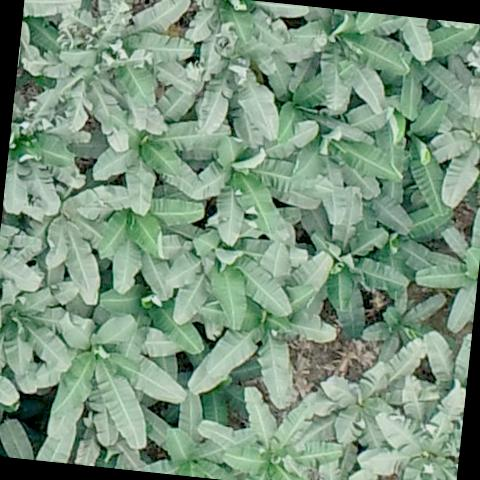Banana-plant: (190, 237, 346, 416), (86, 88, 236, 218), (191, 106, 319, 253), (44, 316, 181, 452), (288, 89, 406, 231), (162, 225, 299, 336), (53, 0, 188, 111), (73, 186, 206, 298), (300, 212, 414, 342), (286, 4, 414, 118), (317, 324, 428, 454), (14, 177, 120, 304), (97, 255, 214, 360), (223, 381, 347, 480), (135, 382, 259, 480), (2, 88, 93, 216), (367, 94, 462, 214), (358, 376, 466, 480), (189, 36, 294, 142), (386, 15, 480, 126), (363, 194, 452, 310), (412, 199, 480, 335), (184, 0, 307, 71), (0, 270, 76, 373), (360, 279, 448, 366), (434, 92, 480, 209), (416, 328, 472, 418)
